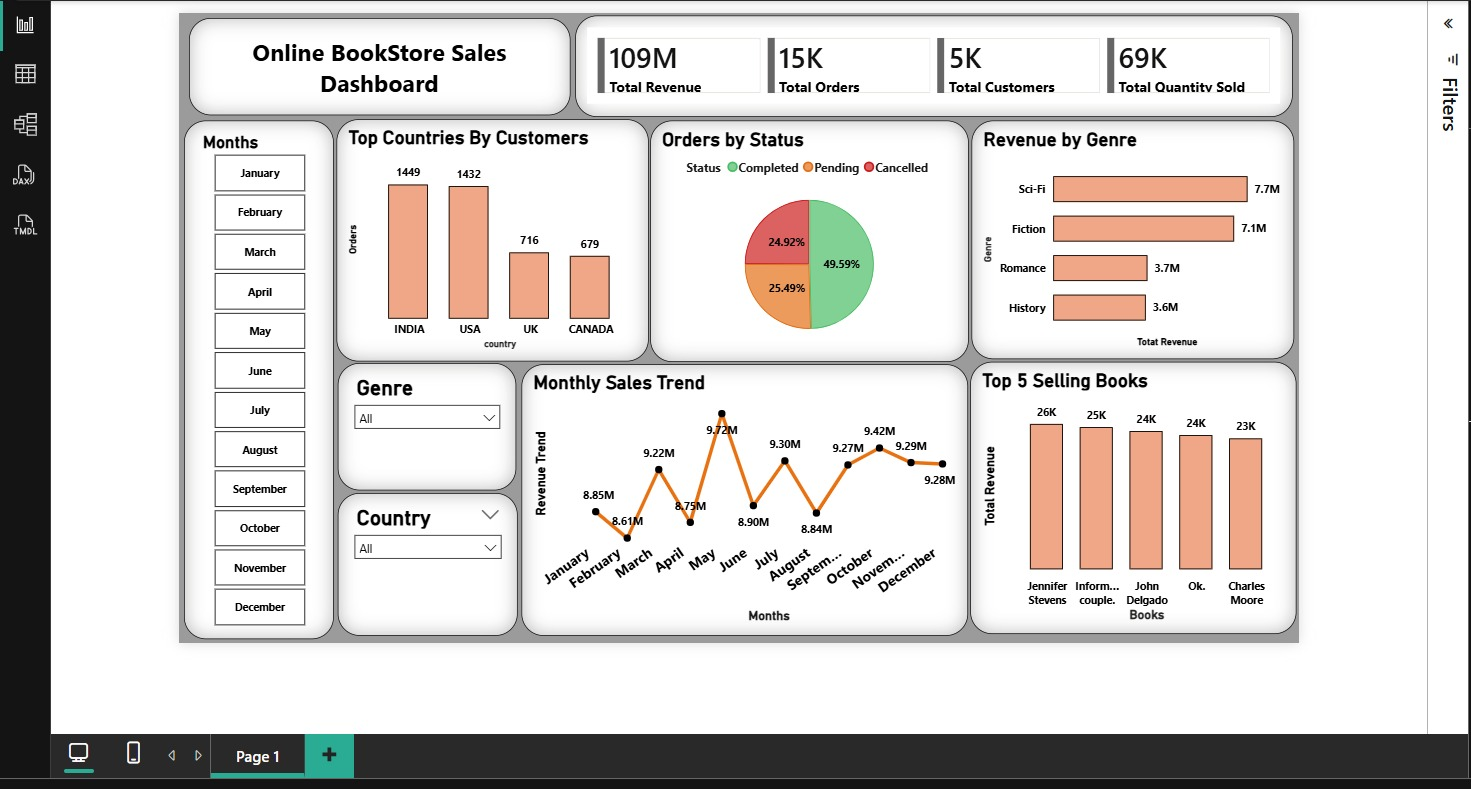

What the dashboard file says about the page in this screenshot:
{"tool":"powerbi","page":{"name":"Page 1","canvas":[1280,720],"ordinal":0},"visuals":[{"type":"clusteredBarChart","title":"Revenue by Genre","fields":{"Y":["Sum(public orders.payment_amount)"],"Category":["public products.genre"]},"box":[905.7,122.9,368.6,272.9],"z":0},{"type":"pieChart","title":"Orders by Status","fields":{"Category":["public orders.status"],"Y":["CountNonNull(public orders.order_id)"]},"box":[538.6,122.9,364.3,275.7],"z":1000},{"type":"lineChart","title":"Monthly Sales Trend","fields":{"Y":["Sum(public orders.payment_amount)"],"Category":["public orders.order_date.Variation.Date Hierarchy.Month"]},"box":[391.4,401.4,510,310],"z":2000},{"type":"columnChart","title":"Top 5 Selling Books","fields":{"Y":["Sum(public orders.payment_amount)"],"Category":["public products.book_title"]},"box":[904.3,398.6,372.9,311.4],"z":3000},{"type":"cardVisual","fields":{"Data":["public customers.Total Revenue","public customers.Total Orders","public customers.Total Customers","public customers.Total Quantity Sold"]},"box":[452.9,2.9,820,115.7],"z":4000},{"type":"slicer","fields":{"Values":["public customers.country"]},"box":[181.4,548.6,205.7,162.9],"z":5000},{"type":"slicer","fields":{"Values":["public products.genre"]},"box":[181.4,400,204.3,145.7],"z":6000},{"type":"slicer","fields":{"Values":["public orders.order_date.Variation.Date Hierarchy.Month"]},"box":[5.7,122.9,171.4,592.9],"z":7000},{"type":"shape","box":[11.4,5.7,435.7,111.4],"z":8000},{"type":"clusteredColumnChart","title":"Top Countries By Customers","fields":{"Category":["public customers.country"],"Y":["Count(public orders.order_id)"]},"box":[180,121.4,357.1,277.1],"z":9000}]}

Visuals, with their boxes on the page's 1280x720 design canvas (x1, y1, x2, y2). These are canvas units, not pixel positions in the 1471x789 screenshot, which may show the page scaled, cropped or inside an application window:
"Revenue by Genre" clusteredBarChart: (906, 123, 1274, 396)
"Orders by Status" pieChart: (539, 123, 903, 399)
"Monthly Sales Trend" lineChart: (391, 401, 901, 711)
"Top 5 Selling Books" columnChart: (904, 399, 1277, 710)
cardVisual - public customers.Total Revenue x public customers.Total Orders: (453, 3, 1273, 119)
slicer - public customers.country: (181, 549, 387, 712)
slicer - public products.genre: (181, 400, 386, 546)
slicer - public orders.order_date.Variation.Date Hierarchy.Month: (6, 123, 177, 716)
shape: (11, 6, 447, 117)
"Top Countries By Customers" clusteredColumnChart: (180, 121, 537, 398)
